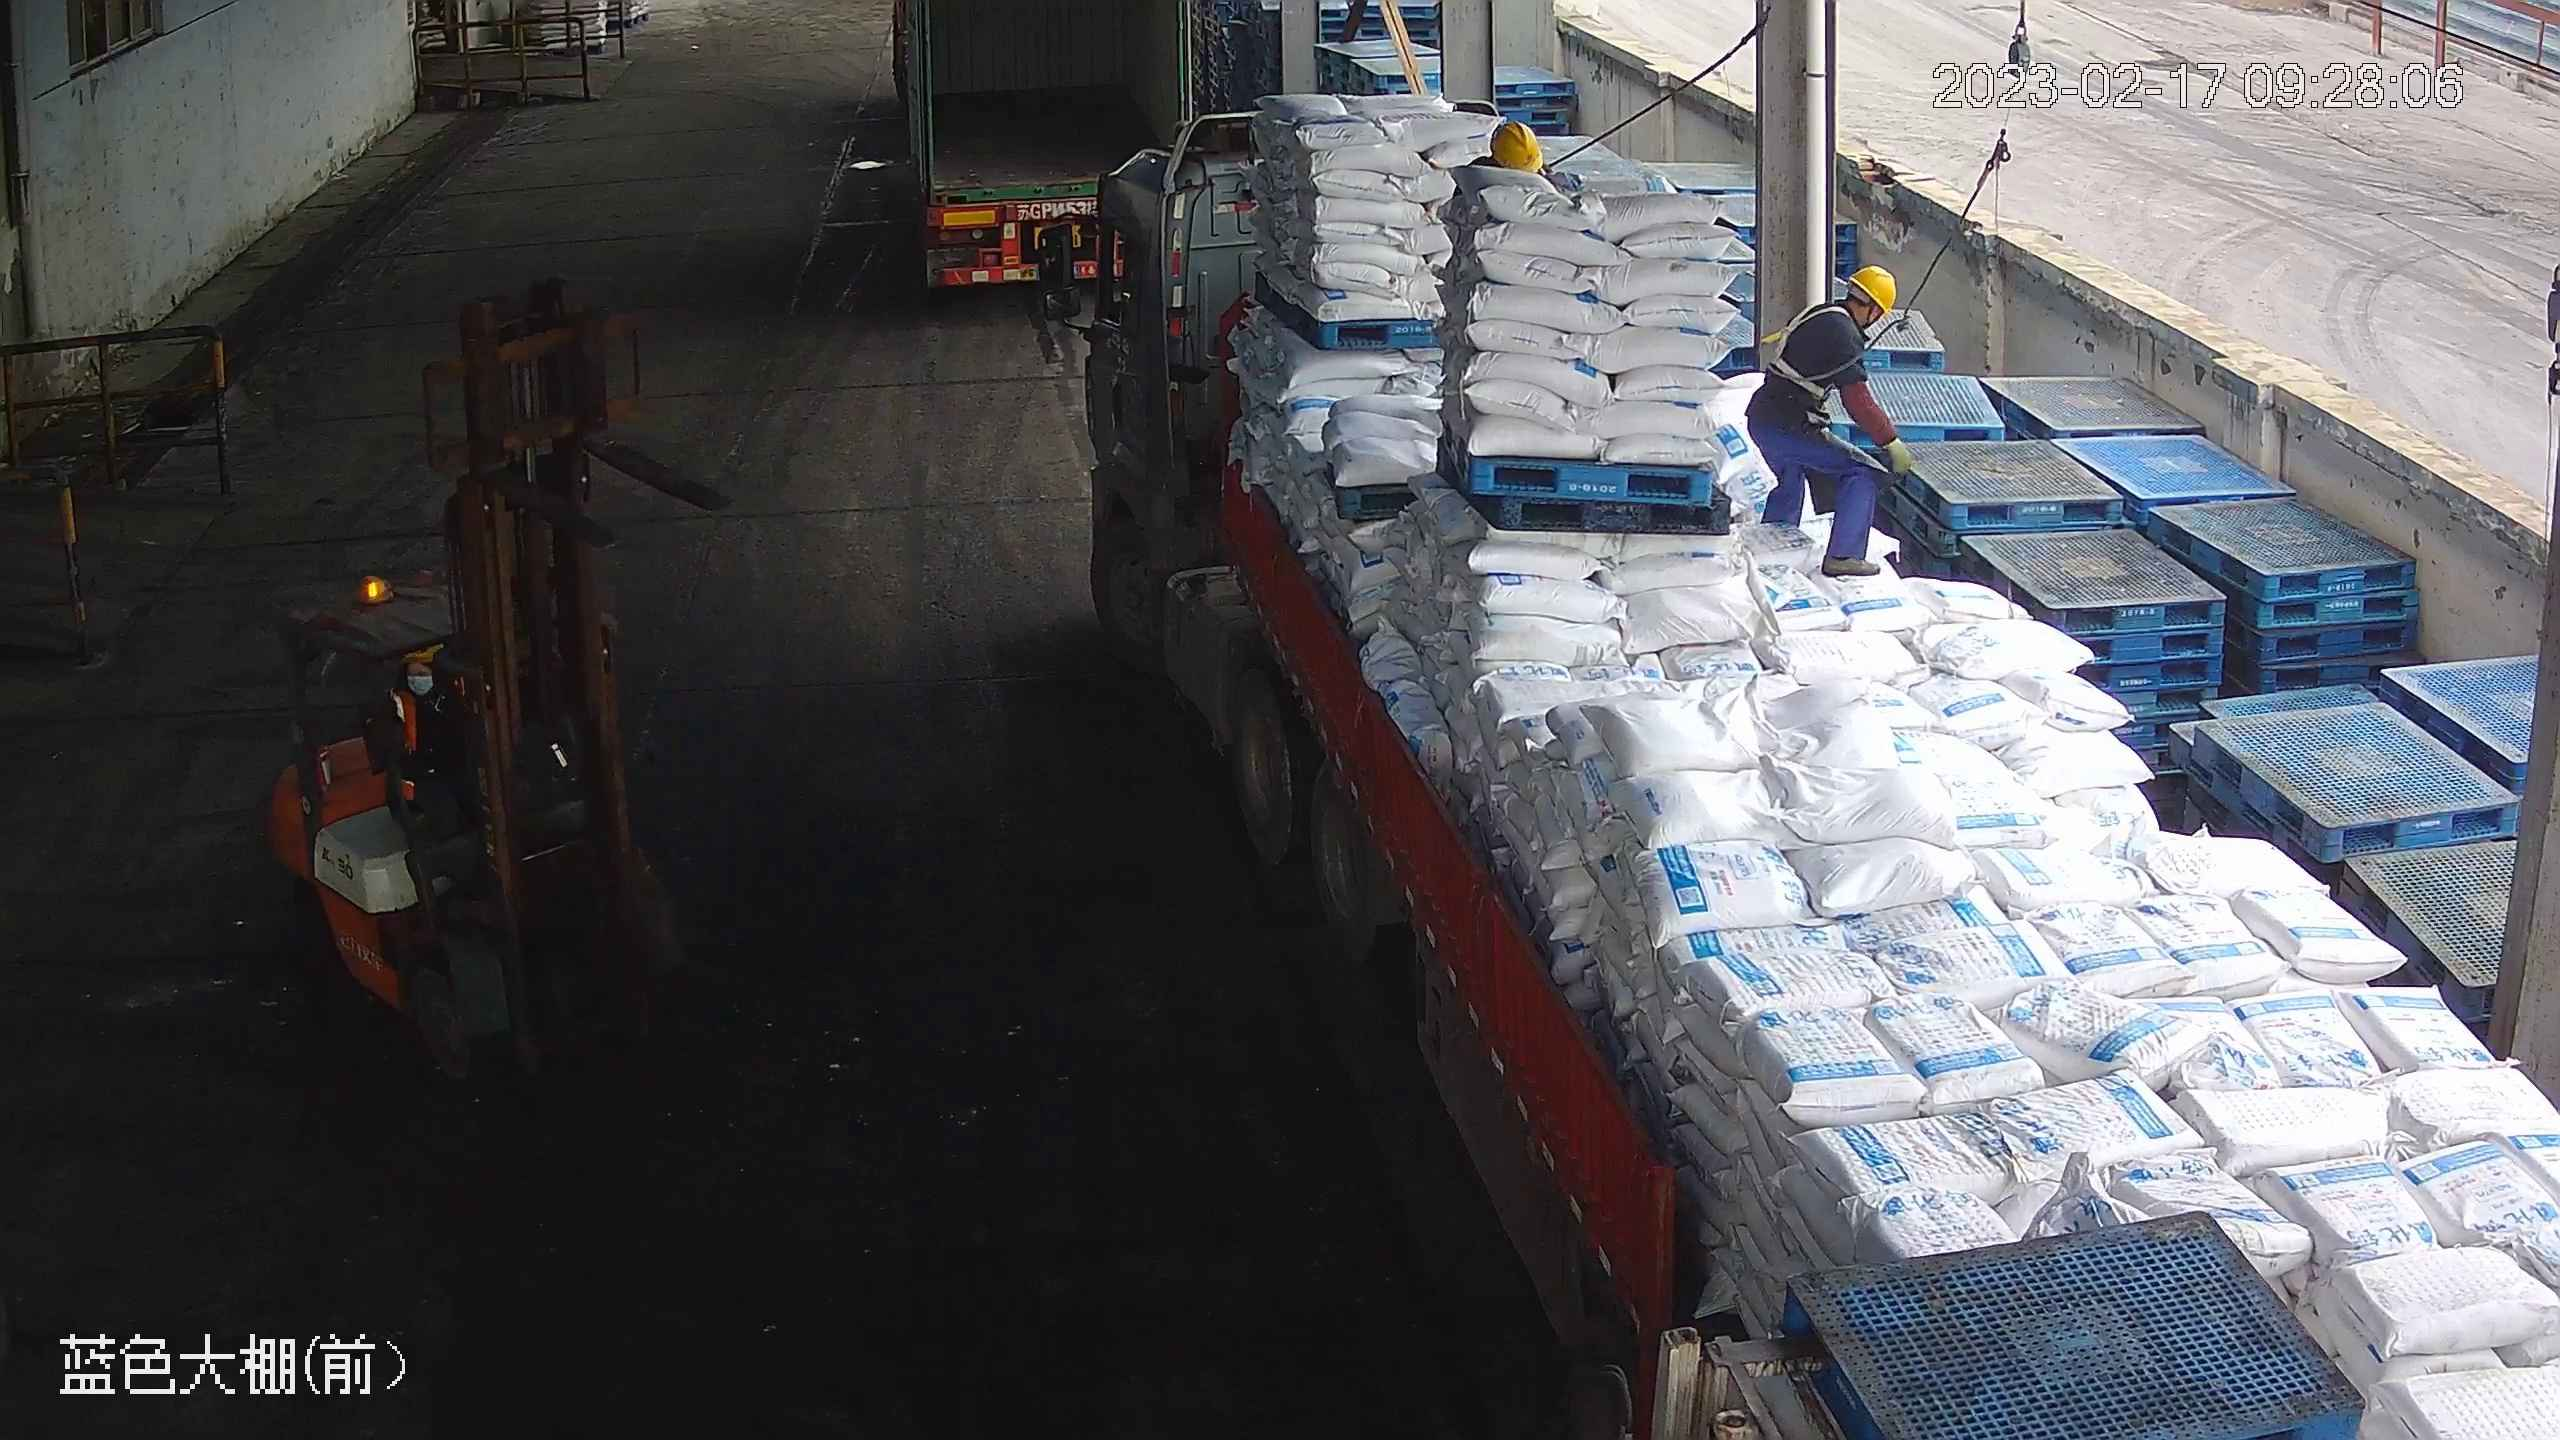belt: (1760, 299, 1853, 393)
head: (1788, 265, 1901, 377)
helmet: (1846, 263, 1898, 322), (1487, 122, 1539, 171)
people: (1742, 263, 1912, 581)
truck: (1036, 93, 2545, 1440), (886, 1, 1210, 305)
